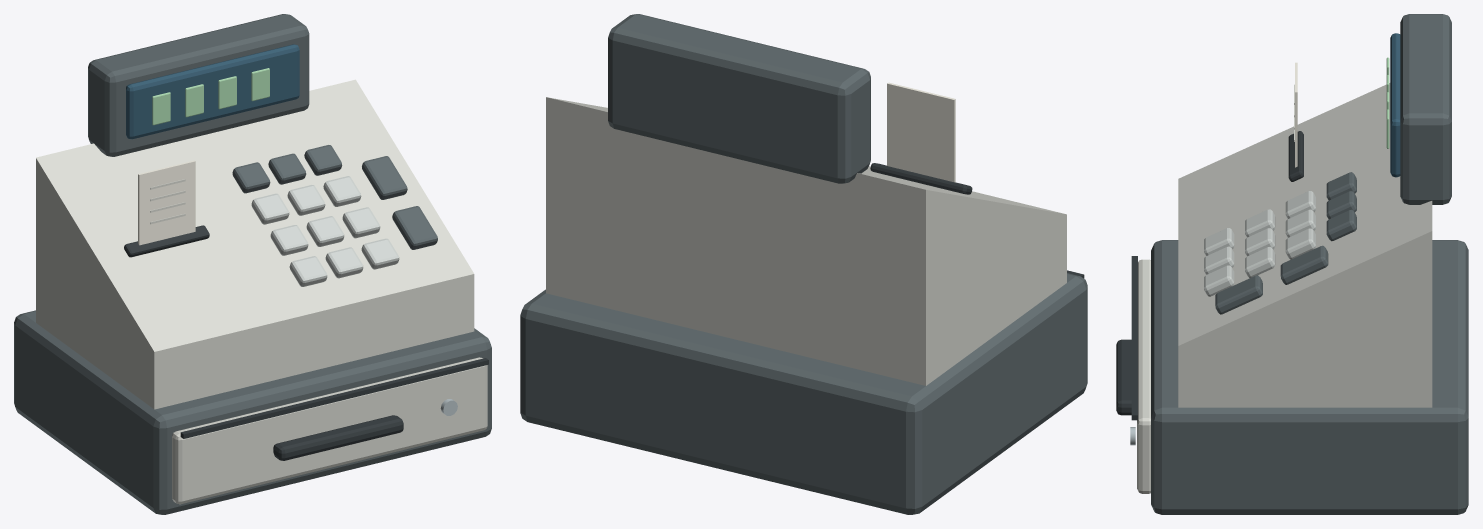
The model's file is cash_register.glb.
3 renders of one model, left to right at view 1: azimuth 30°, elevation 25°; view 2: azimuth 150°, elevation 25°; view 3: azimuth 270°, elevation 25°, orthographic. The views are drawn at different scales.
Visible parts, largest first — view 1: Register_Sloped_Console, Register_Cash_Drawer_Base, Register_Drawer_Front, Register_Display_Housing, Register_Display, Register_Receipt, Register_Drawer_Handle, Register_Drawer_Top_Seam, Register_Function_Key_0, Register_Function_Key_1, Register_Receipt_Slot, Register_Key_0_2 (+15 smaller); view 2: Register_Sloped_Console, Register_Cash_Drawer_Base, Register_Display_Housing, Register_Receipt, Register_Receipt_Slot; view 3: Register_Sloped_Console, Register_Cash_Drawer_Base, Register_Display_Housing, Register_Drawer_Front, Register_Display, Register_Drawer_Handle, Register_Drawer_Top_Seam, Register_Function_Key_1, Register_Function_Key_0, Register_Key_3_2, Register_Key_1_2, Register_Key_0_2 (+10 smaller).
Part boxes in pixels (box(x1,y1,x2,y2)): Register_Sloped_Console: box(36, 79, 474, 409); Register_Cash_Drawer_Base: box(14, 310, 491, 514); Register_Drawer_Front: box(172, 357, 487, 504); Register_Display_Housing: box(88, 14, 309, 156); Register_Display: box(126, 44, 299, 139); Register_Receipt: box(138, 160, 195, 245); Register_Drawer_Handle: box(273, 415, 403, 460); Register_Drawer_Top_Seam: box(180, 358, 488, 438); Register_Function_Key_0: box(392, 206, 437, 249); Register_Function_Key_1: box(362, 156, 407, 199); Register_Receipt_Slot: box(124, 225, 209, 257); Register_Key_0_2: box(361, 238, 399, 269); Register_Sloped_Console: box(546, 97, 1066, 385); Register_Cash_Drawer_Base: box(520, 273, 1087, 514); Register_Display_Housing: box(608, 14, 870, 183); Register_Receipt: box(887, 82, 955, 182); Register_Receipt_Slot: box(870, 163, 972, 194); Register_Sloped_Console: box(1178, 83, 1432, 407); Register_Cash_Drawer_Base: box(1151, 240, 1468, 514); Register_Display_Housing: box(1400, 14, 1451, 204); Register_Drawer_Front: box(1137, 259, 1150, 493); Register_Display: box(1390, 33, 1400, 177); Register_Drawer_Handle: box(1116, 339, 1131, 415); Register_Drawer_Top_Seam: box(1131, 256, 1137, 420); Register_Function_Key_1: box(1280, 245, 1328, 284); Register_Function_Key_0: box(1215, 275, 1262, 314); Register_Key_3_2: box(1326, 209, 1356, 241); Register_Key_1_2: box(1245, 246, 1275, 277); Register_Key_0_2: box(1204, 265, 1234, 296).
Size of the model in its own units: 0.46 by 0.4465 by 0.3885.
